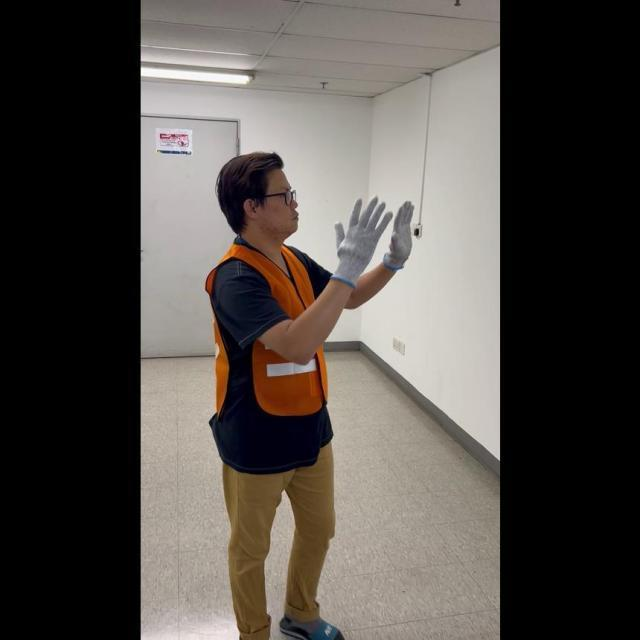gloved_hand: (328, 190, 392, 281), (383, 196, 415, 271)
